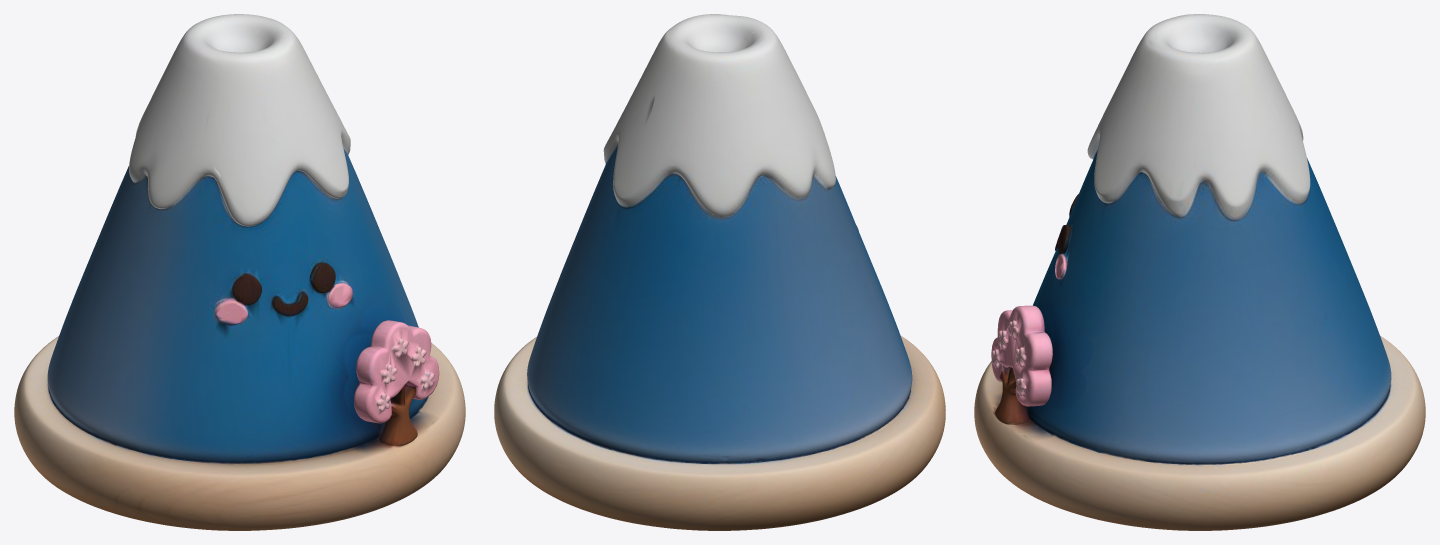
File: fuji.glb
3 views of the same model, side by side, from view 1: azimuth 30°, elevation 25°; view 2: azimuth 150°, elevation 25°; view 3: azimuth 270°, elevation 25° (orthographic).
Parts seen in each view (by area): view 1: node_0; view 2: node_0; view 3: node_0.
Boxes of the visible parts, <box> form: node_0: <box>14,14,465,530</box>; node_0: <box>494,14,945,530</box>; node_0: <box>974,14,1425,530</box>.
Size of the model in its own units: 0.8796 by 0.88 by 0.8795.
Materials: 1 (1 with a texture image).
